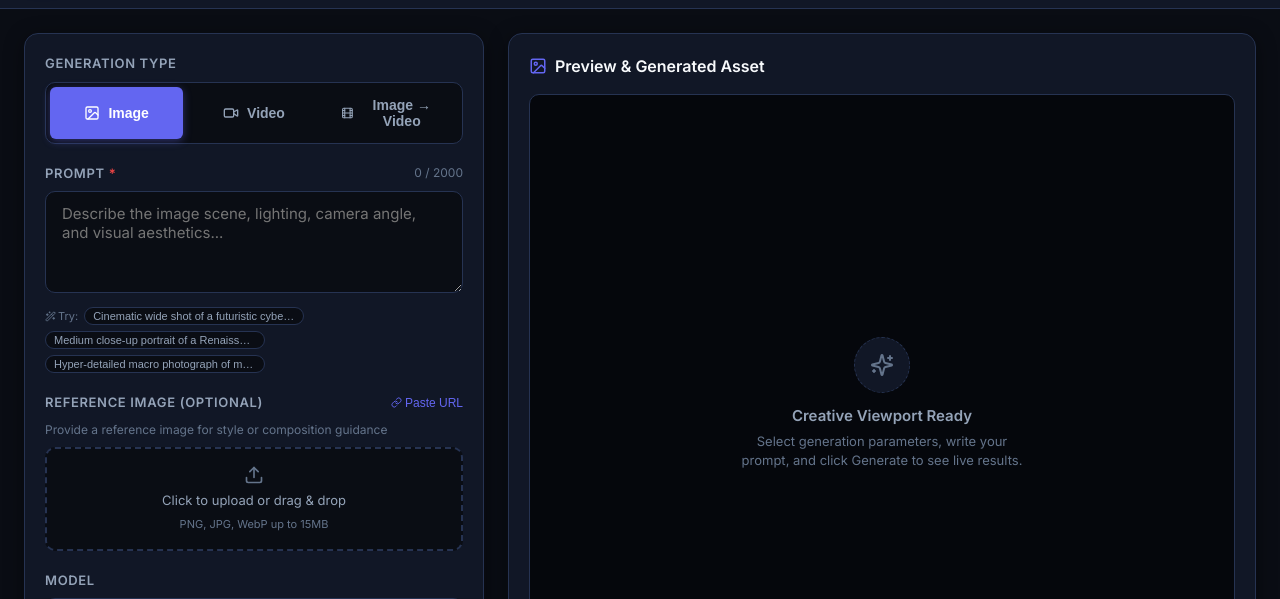
Test: AryaOS Creator Mode Frontend › 11. displays human-readable error when generation fails
Replace the text in the text box labelled "Prompt *" with "Trigger failure": (254, 242) [45,191,463,293]
(page scrolled)
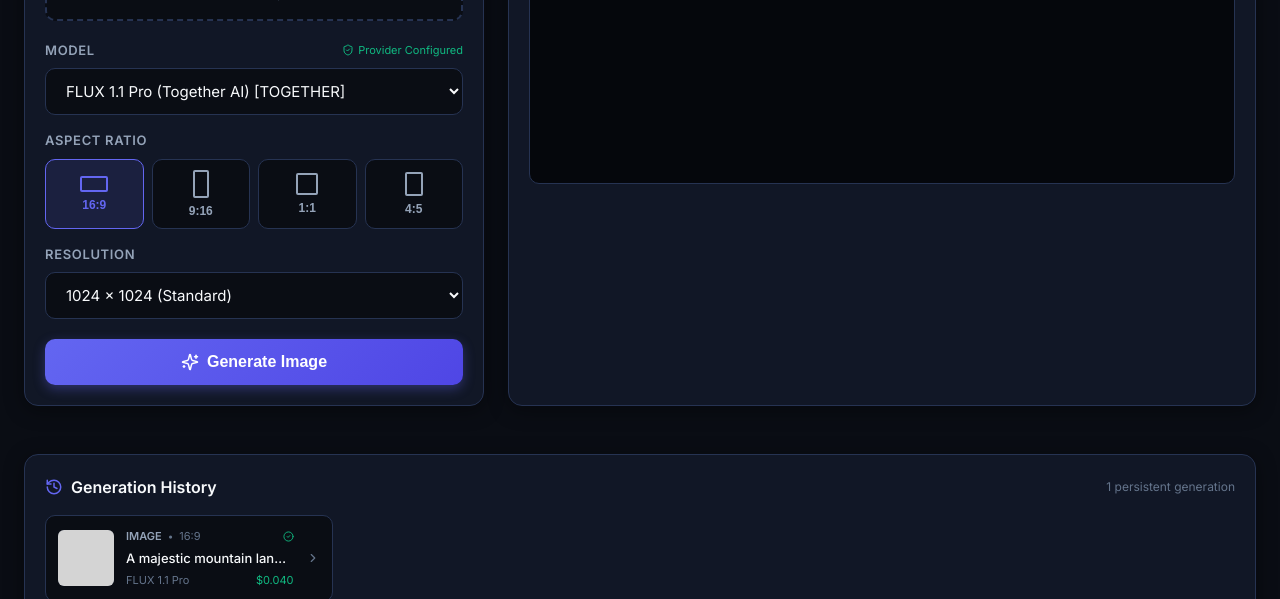
Click the button "Generate Image": (254, 362) [45,339,463,385]
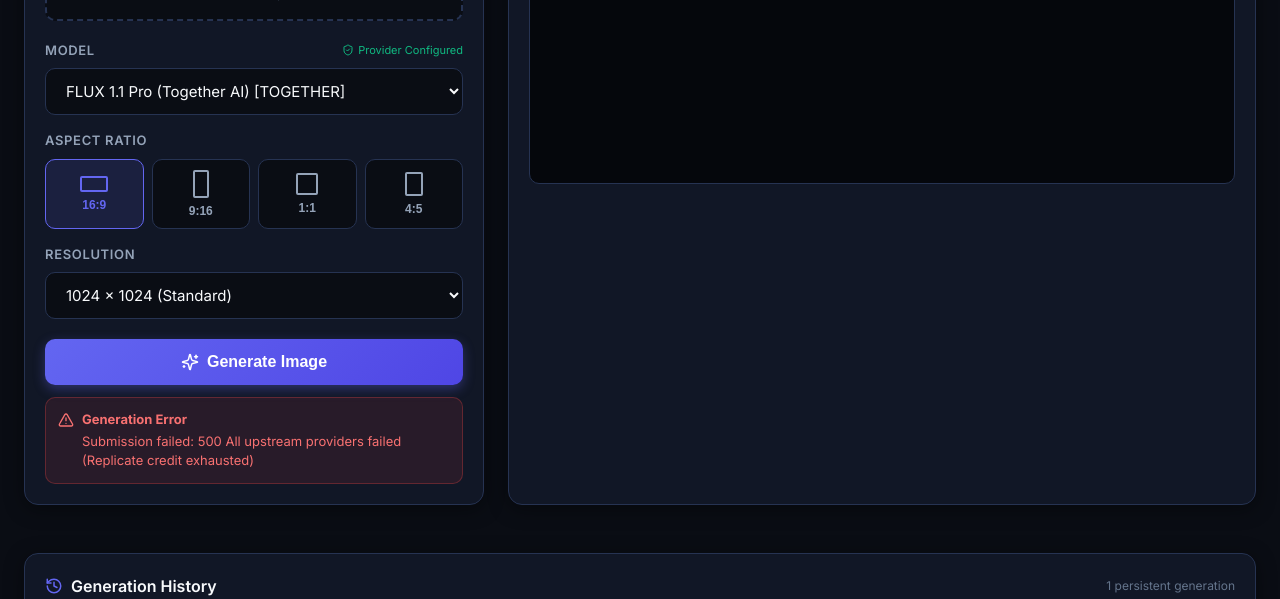
Expected: the text "All upstream providers failed (Replicate credit exhausted)" is shown, [82,432,401,468]
